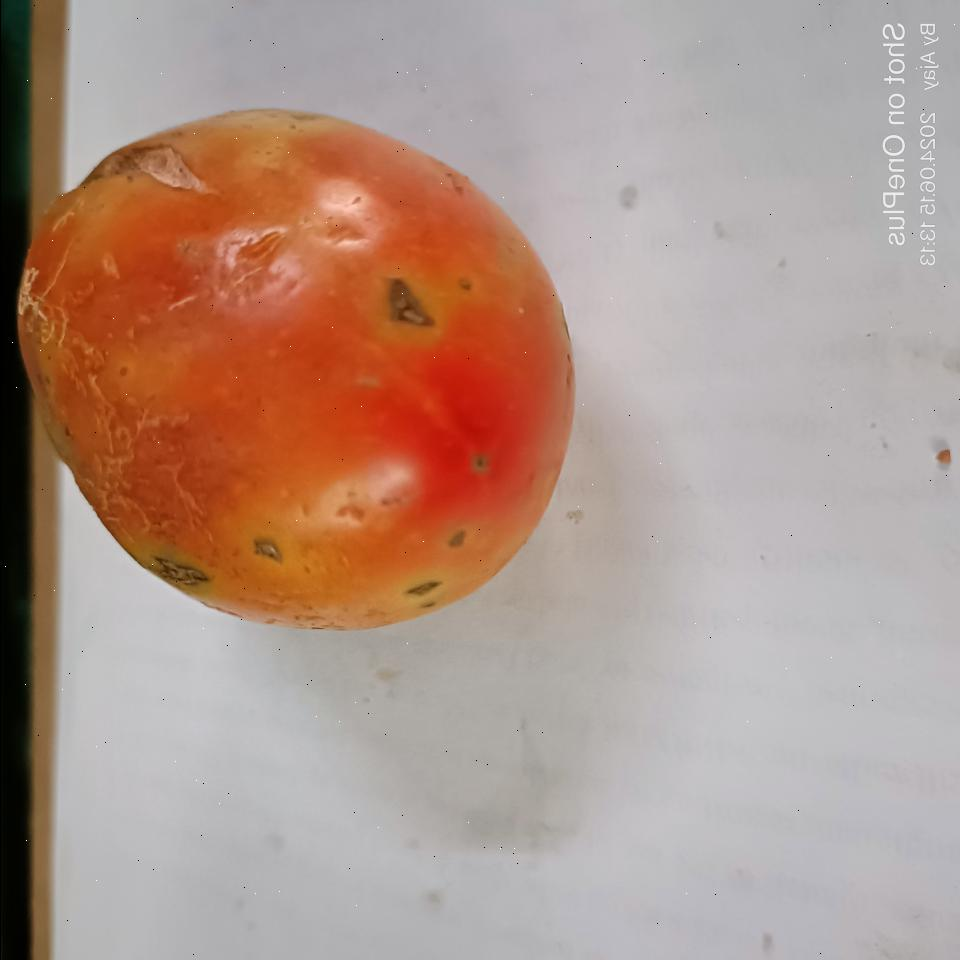Bacterial_Spot: (96, 132, 208, 204), (144, 548, 212, 598), (379, 278, 429, 338), (248, 534, 286, 566)
